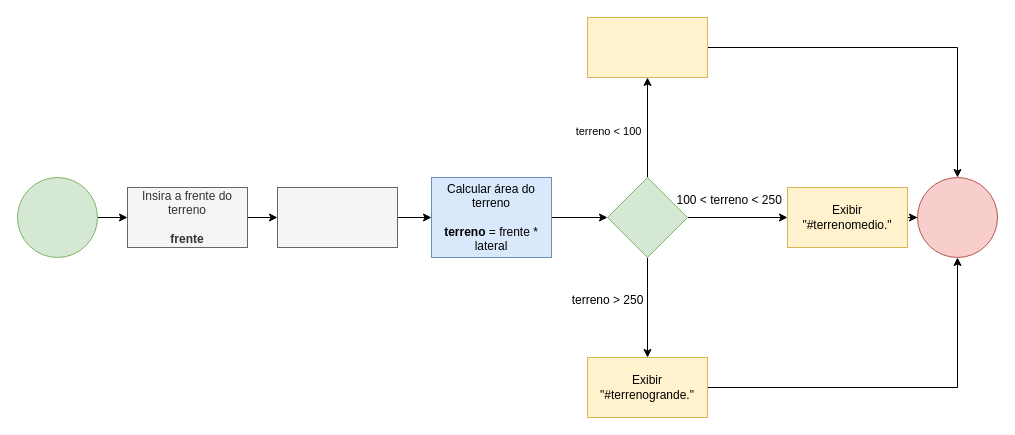
Image size: 1015x435. Some labels were removed from this diagram. The centre of each missing label's shape, as x and y in pixels:
Exibir "#terrenopequeno.": (x=647, y=47)
Insira a lateral do terreno lateral: (x=337, y=217)
